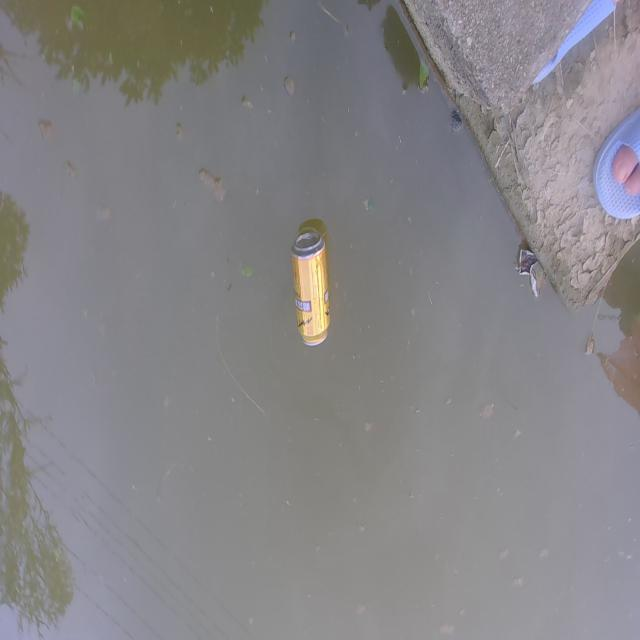garbage: (291, 228, 331, 346)
